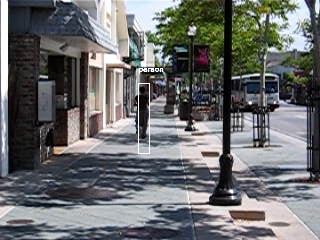person: (134, 84, 153, 141), (133, 84, 152, 141), (135, 84, 154, 141), (134, 83, 153, 140), (134, 85, 153, 142)
target_negative: (92, 13, 135, 235), (67, 208, 203, 226), (69, 143, 79, 200), (37, 122, 115, 124), (15, 207, 29, 212)
